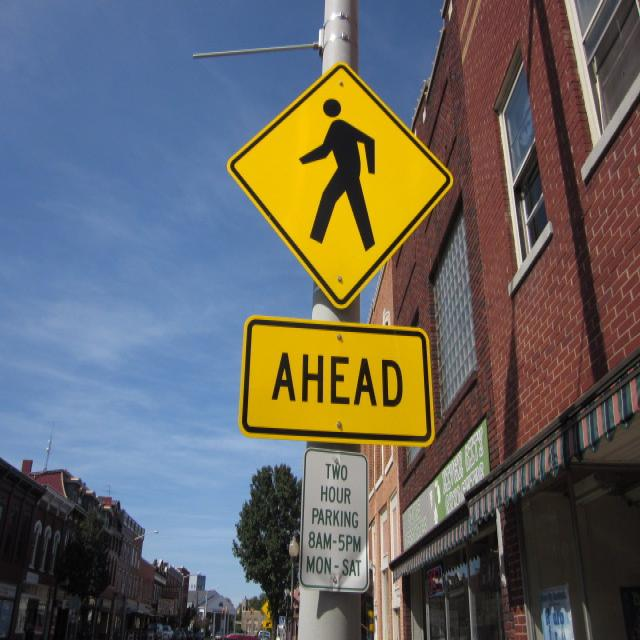regulatory: (295, 449, 374, 599)
warning: (224, 46, 456, 312), (218, 315, 454, 447)
